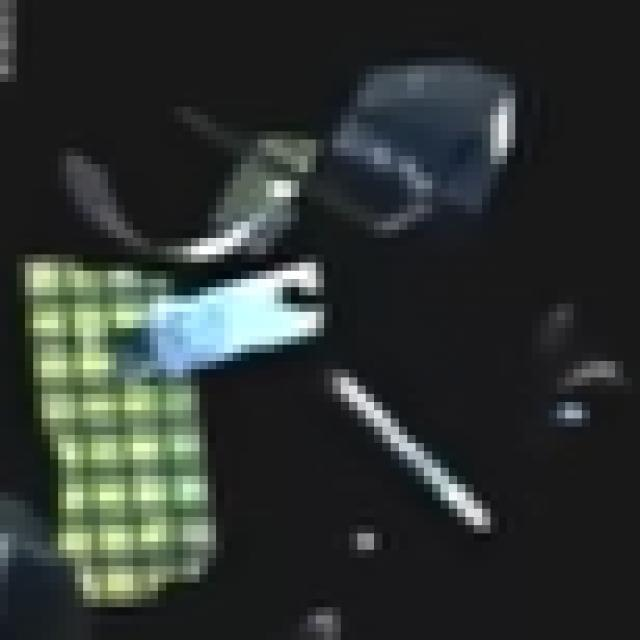large_debris: (40, 65, 538, 278), (14, 255, 226, 640)
medium_debris: (333, 376, 498, 537), (143, 254, 331, 376), (563, 352, 627, 395)
small_debris: (537, 300, 580, 358), (299, 601, 351, 640), (343, 523, 389, 559), (550, 399, 596, 434)
